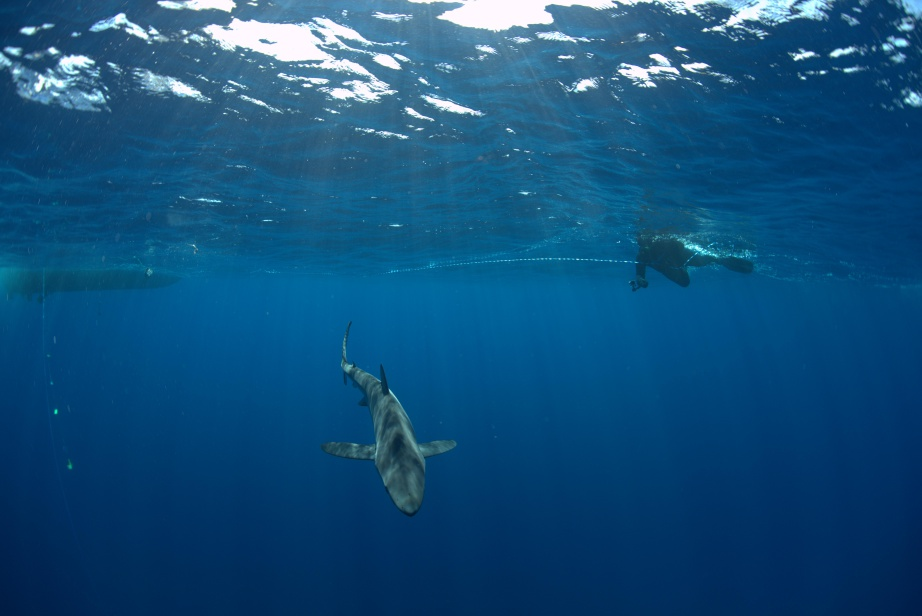Azul: (278, 307, 566, 570)
